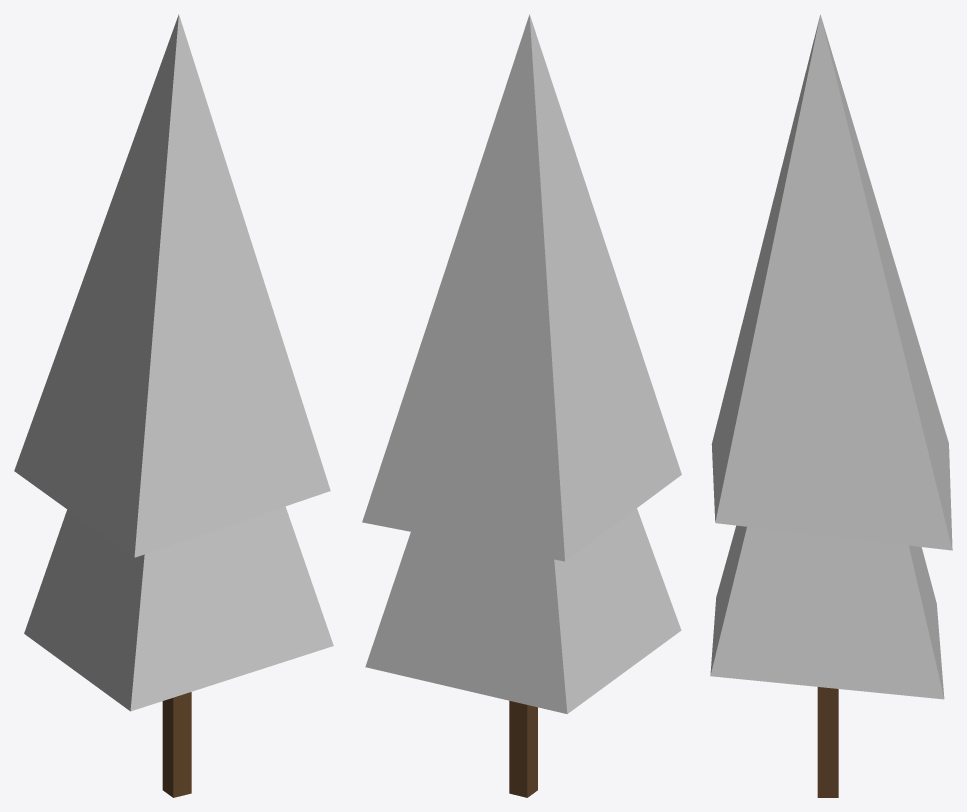
Rendered from tree17.fbx.
3 renders of one model, left to right at view 1: azimuth 30°, elevation 25°; view 2: azimuth 150°, elevation 25°; view 3: azimuth 270°, elevation 25°, orthographic.
Parts seen in each view (by area): view 1: Cube.057; view 2: Cube.057; view 3: Cube.057.
Boxes of the visible parts, bbox=[...] form: Cube.057: bbox=[14, 14, 333, 797]; Cube.057: bbox=[362, 14, 681, 797]; Cube.057: bbox=[710, 14, 952, 797].
Bounding box in the file's own units: 167 × 613 × 173.
